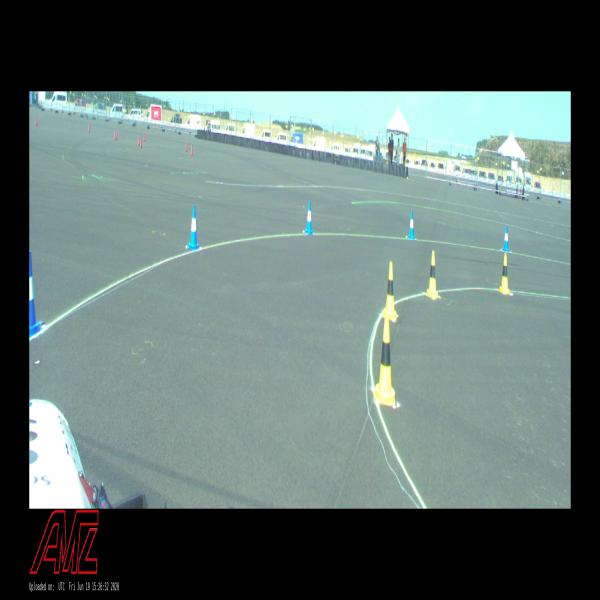blue_cone: (29, 251, 43, 338), (189, 205, 199, 250), (305, 201, 313, 233), (408, 212, 415, 240), (503, 226, 509, 252)
yellow_cone: (374, 315, 396, 407), (382, 261, 397, 319), (425, 250, 438, 300), (499, 253, 510, 294)
